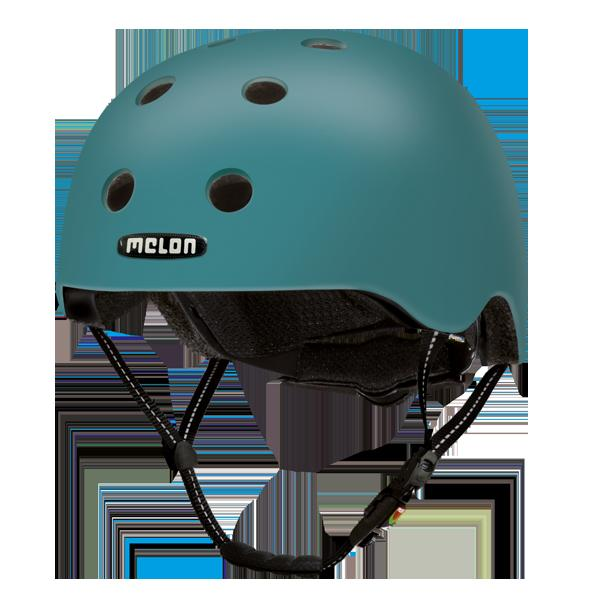helmet: (34, 28, 575, 378)
